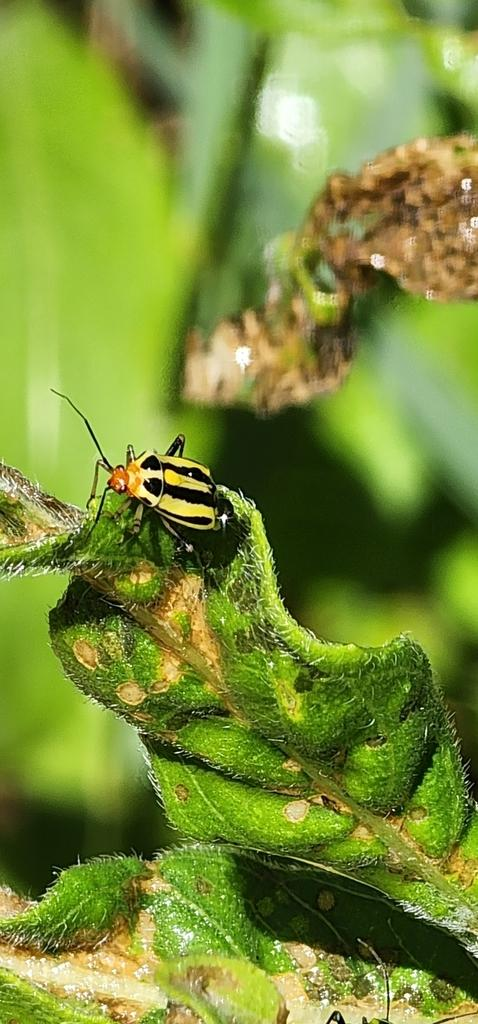plant_bugs: (0, 340, 273, 616)
